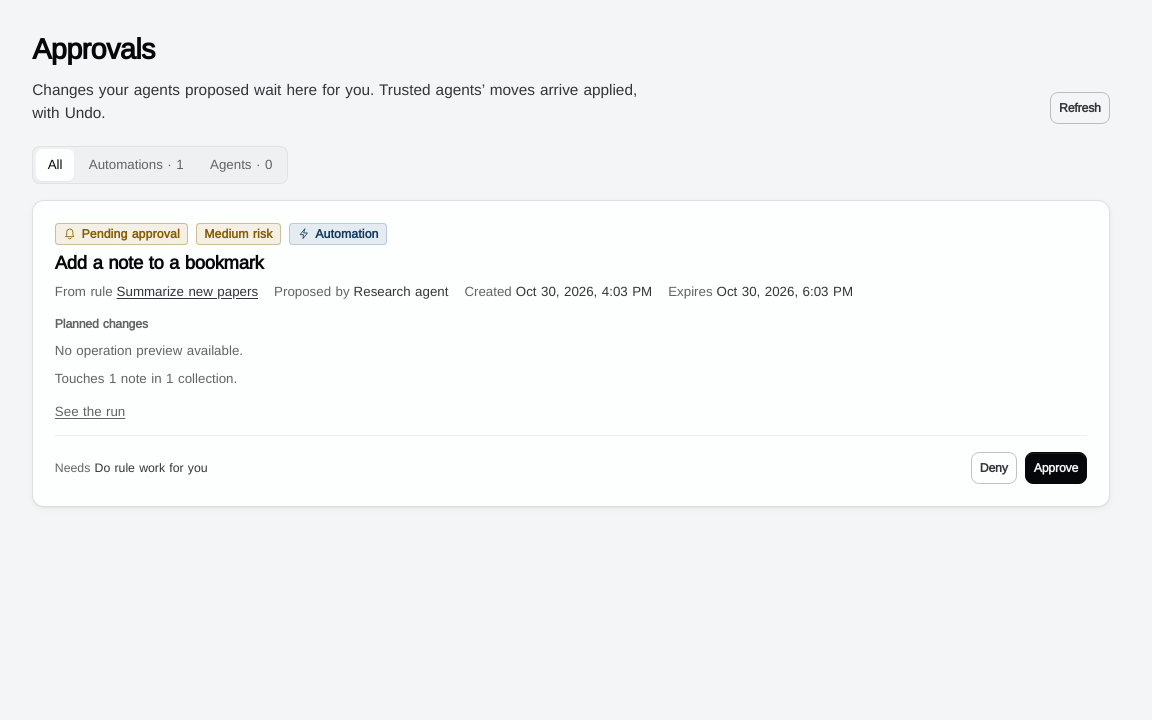
Automation plans in Approvals › declines through the job, and a declined plan says nothing was applied
Click the button "Deny" at (994, 468), box [971,452,1017,484]
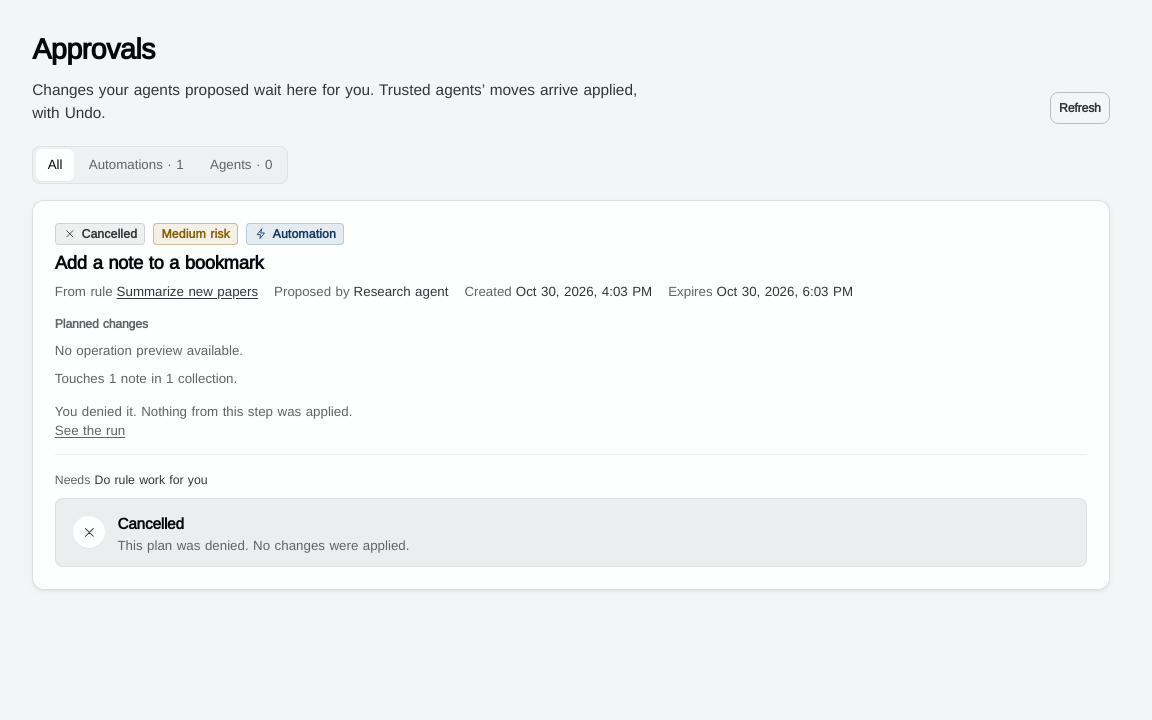
expect the button "Deny" is gone: met
